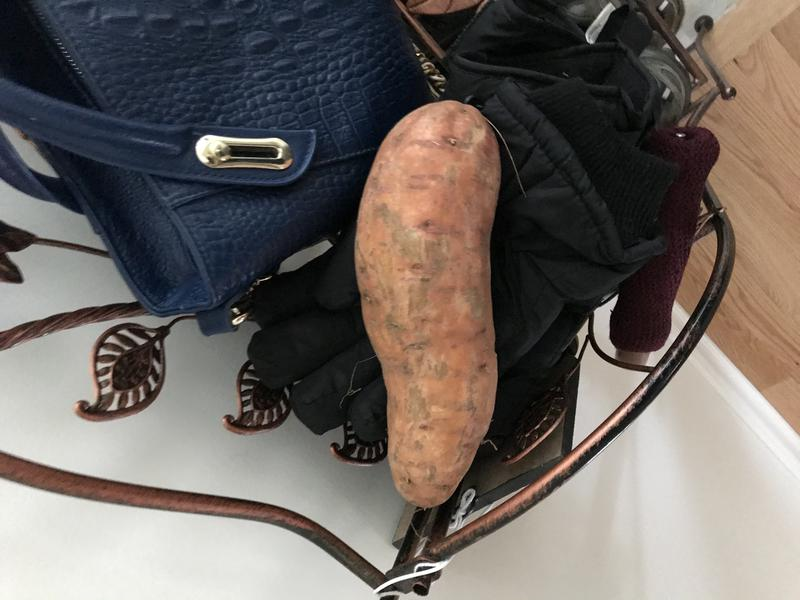sweet_potato: (338, 90, 509, 521)
